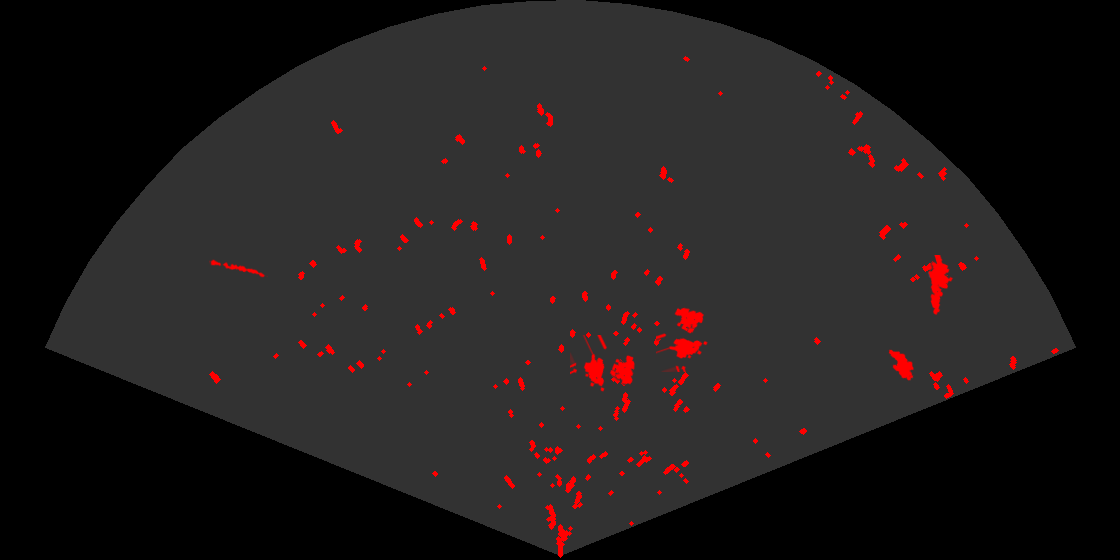AUV: (887, 348, 916, 382)
cage: (570, 335, 637, 393), (656, 306, 709, 372)
chain: (209, 258, 268, 279)
frogman: (927, 255, 955, 317)
